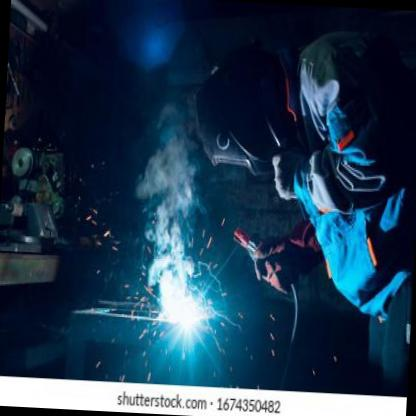Gloves: (252, 214, 327, 296)
